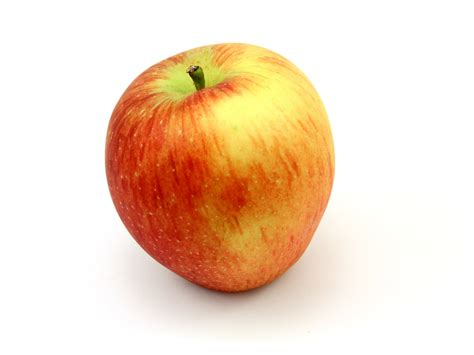apple: (102, 39, 345, 296)
